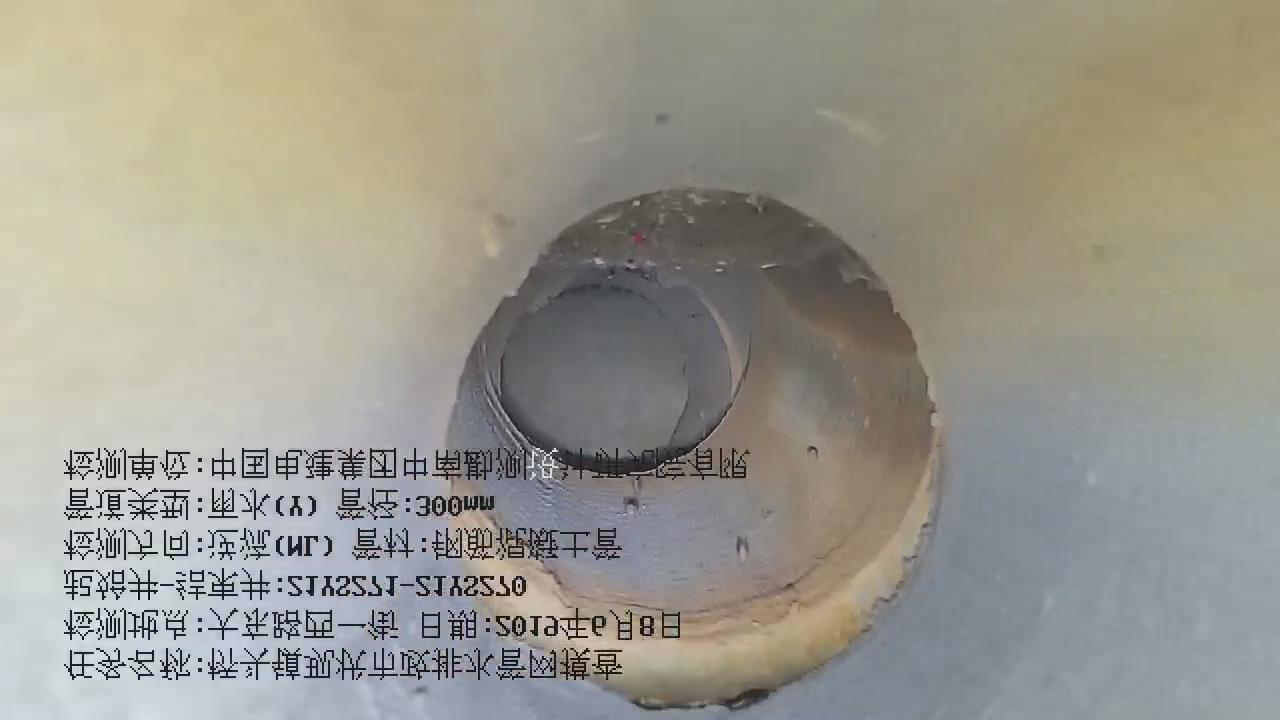CJ: (541, 192, 874, 280)
CKTJ: (436, 482, 930, 710), (687, 286, 747, 401)
